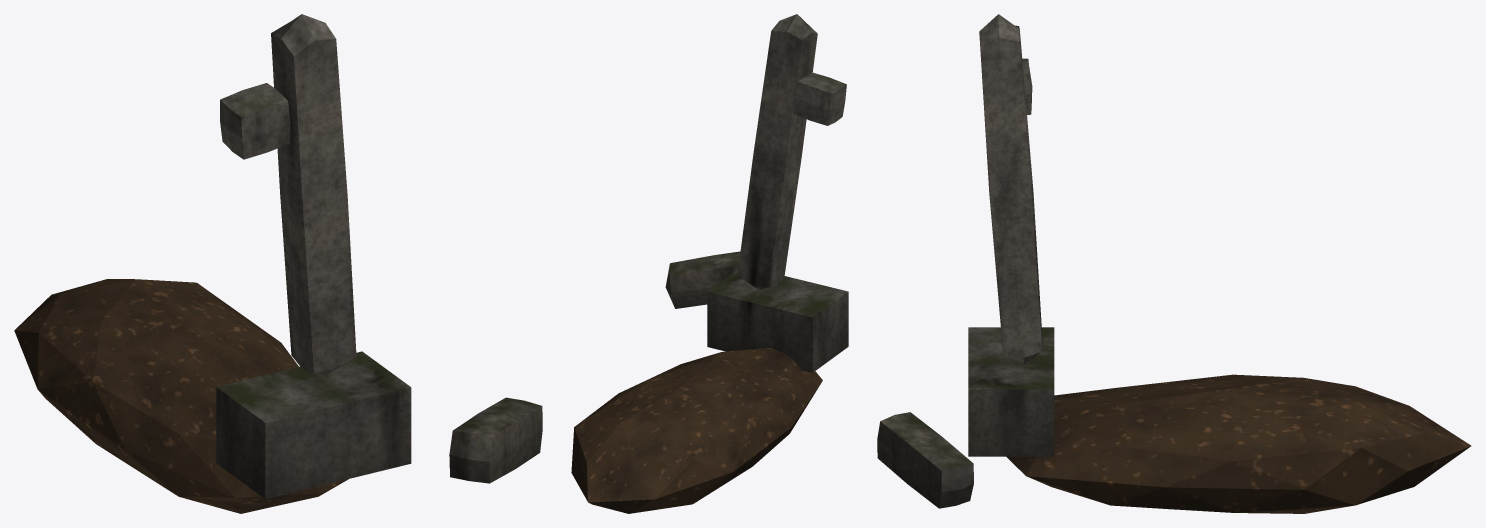
File: gravestone_b.glb
3 views of the same model, side by side, from view 1: azimuth 30°, elevation 25°; view 2: azimuth 150°, elevation 25°; view 3: azimuth 270°, elevation 25° (orthographic). The views are drawn at different scales.
Parts seen in each view (by area): view 1: gravestone_b; view 2: gravestone_b; view 3: gravestone_b.
Boxes of the visible parts, x1,y1,x2,y2 form: gravestone_b: (14, 14, 542, 513); gravestone_b: (571, 14, 848, 513); gravestone_b: (877, 14, 1471, 513).
Size of the model in its own units: 1.22 by 2.17 by 2.41.
1 material, 1 textured.
